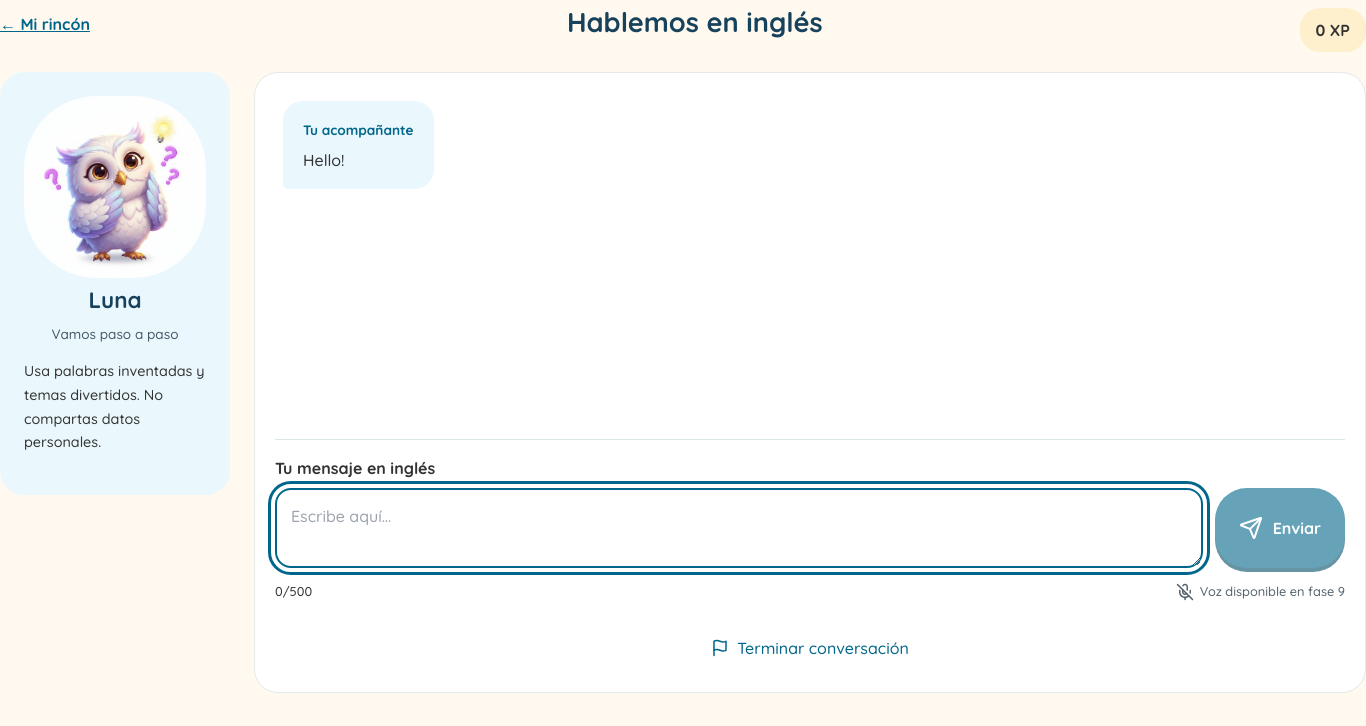
conversation boundaries › clears all cached turns and raw pending text on a safety-review response
In the text box labelled "Tu mensaje en inglés": (739,528) top-left (275, 488), bottom-right (1203, 568), type "dog"
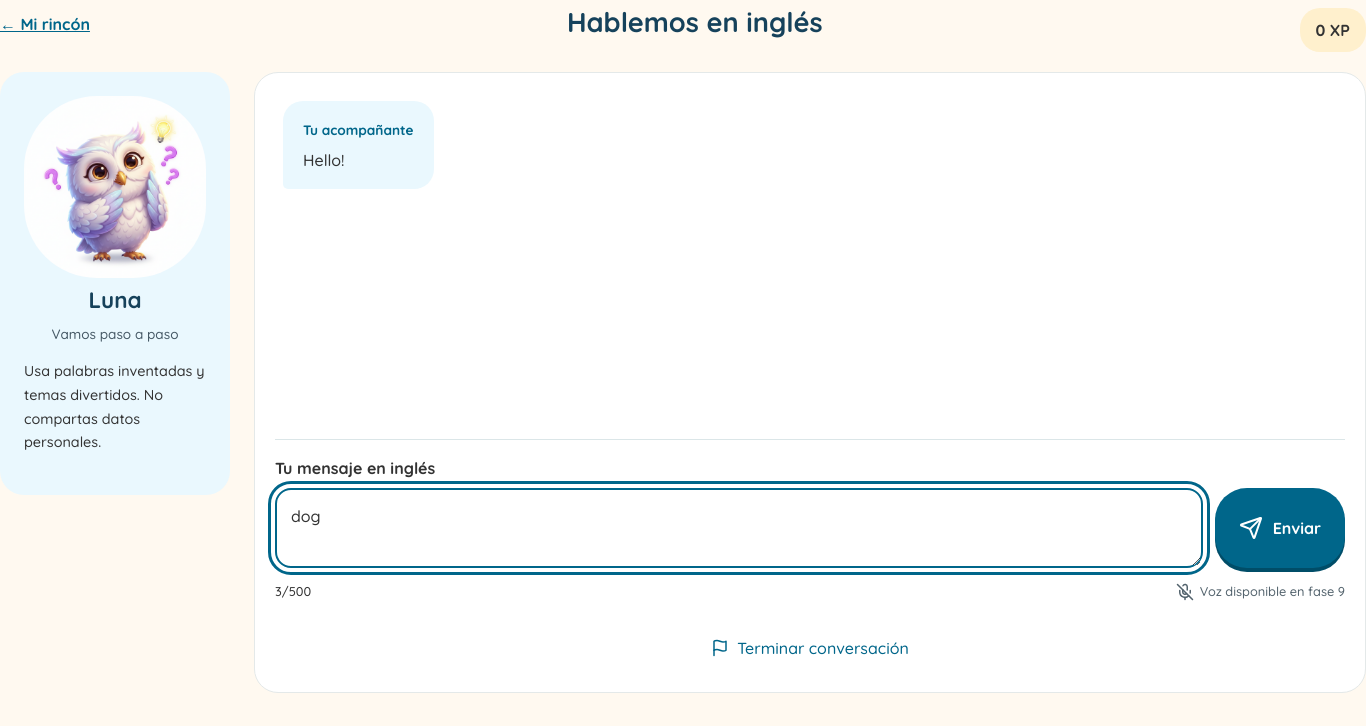
Click the button with aria-label "Enviar mensaje": (1280,528) top-left (1215, 488), bottom-right (1345, 568)
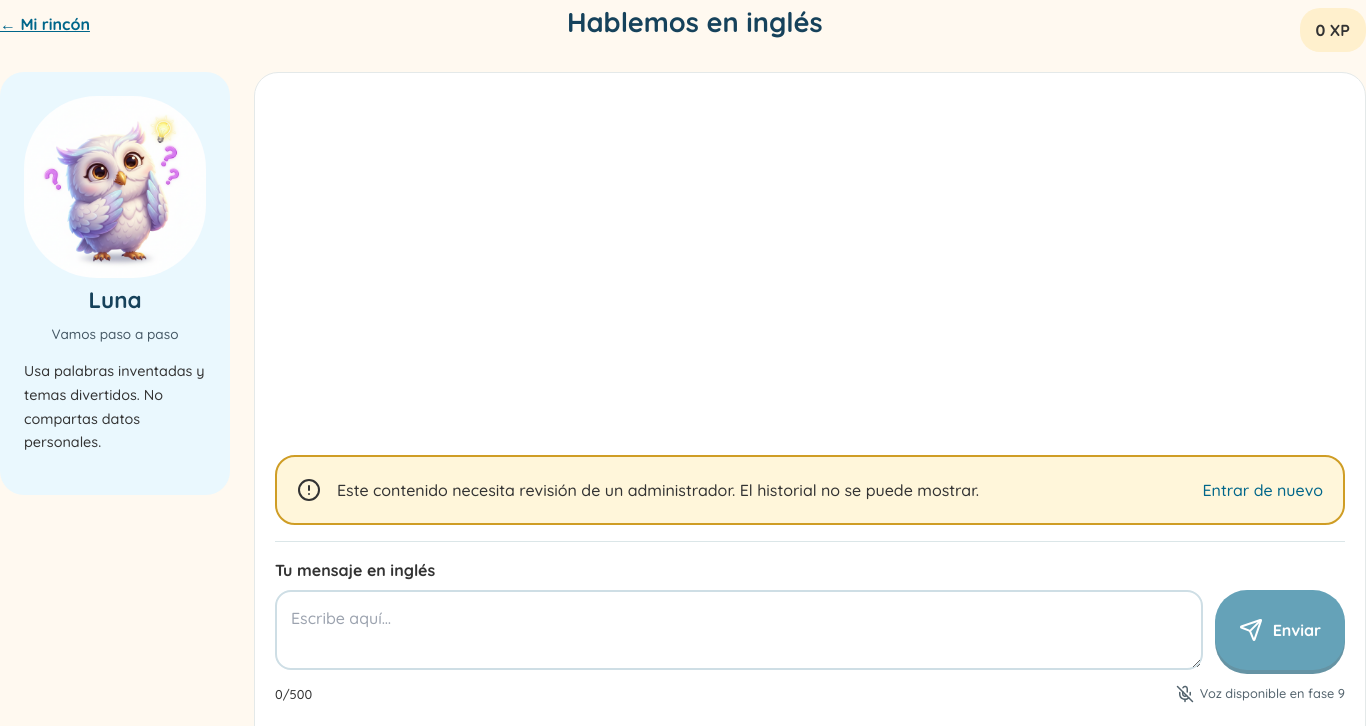
Result: the text "revisión de un administrador" is shown at top-left (337, 480), bottom-right (979, 500)
Result: no elements with class "bubble" are shown
Result: the text box labelled "Tu mensaje en inglés" is disabled at top-left (275, 590), bottom-right (1203, 670)
